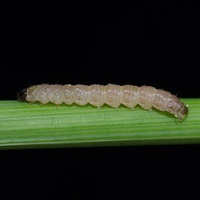insect: (17, 84, 187, 119)
